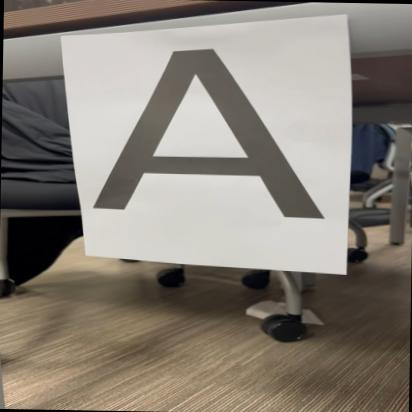seat: (90, 44, 340, 224)
